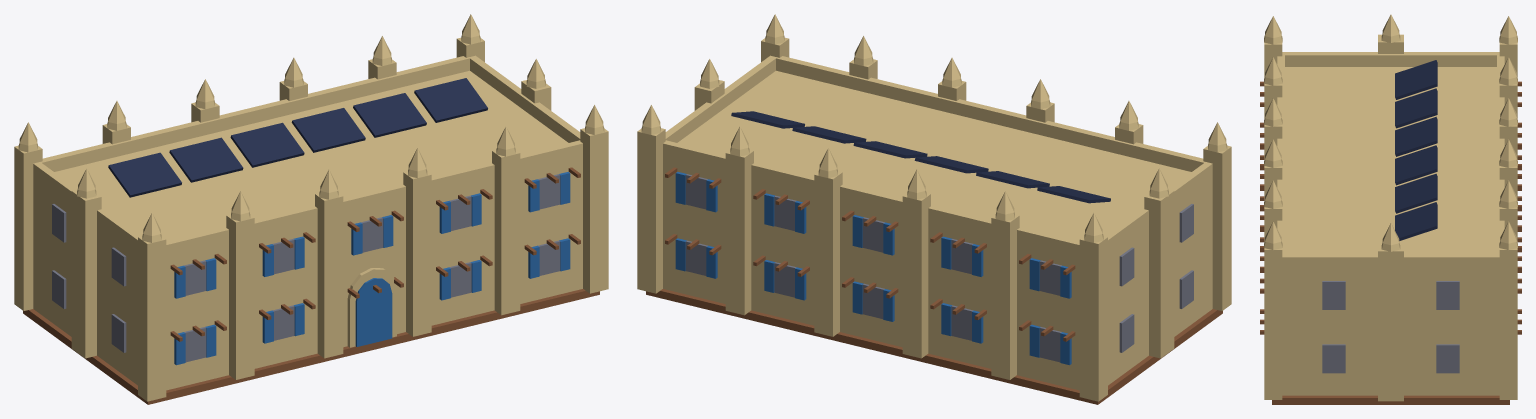
File: house-2x1-2f-banco-a-solar.glb
3 renders of one model, left to right at view 1: azimuth 30°, elevation 25°; view 2: azimuth 150°, elevation 25°; view 3: azimuth 270°, elevation 25°, orthographic. The views are drawn at different scales.
Visible parts, largest first — view 1: house-2x1-2f-banco-a-solar; view 2: house-2x1-2f-banco-a-solar; view 3: house-2x1-2f-banco-a-solar.
Part boxes in pixels (bbox=[...]): house-2x1-2f-banco-a-solar: bbox=[14, 14, 608, 404]; house-2x1-2f-banco-a-solar: bbox=[637, 14, 1231, 404]; house-2x1-2f-banco-a-solar: bbox=[1260, 14, 1521, 404].
Size of the model in its own units: 1.99 by 0.775 by 1.01.
1 material, 1 textured.
